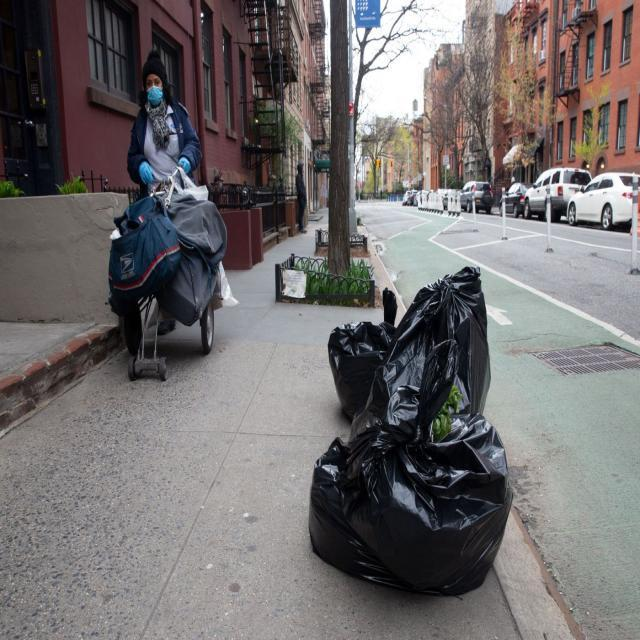Vinyl: (302, 348, 513, 602), (378, 272, 498, 419)
